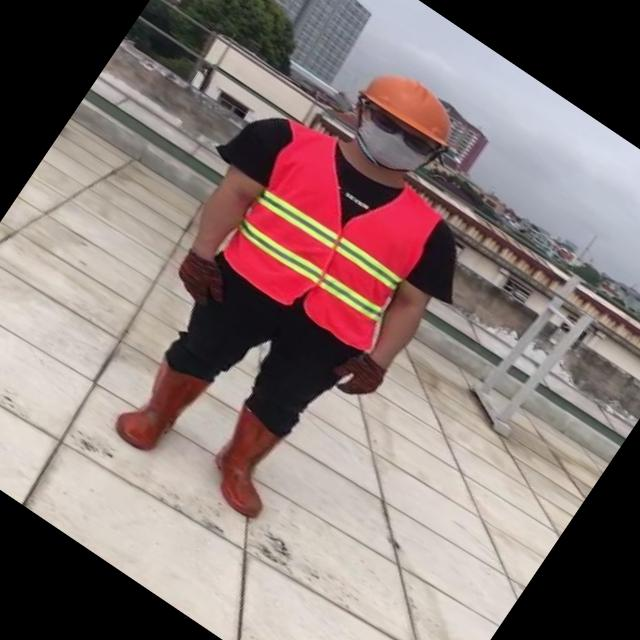hard_hat: (354, 55, 475, 158)
safety_vest: (199, 108, 452, 354)
vehicle: (54, 9, 543, 554)
work_boots: (184, 394, 308, 524), (106, 348, 211, 462)
